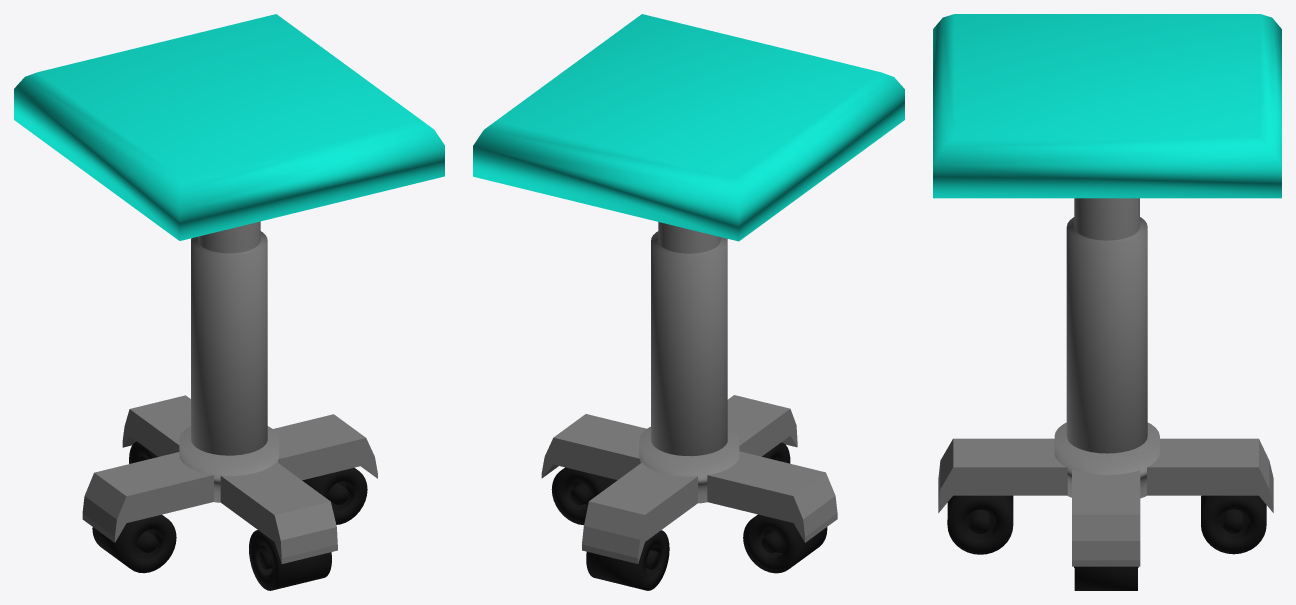
The model's file is chair_tier9.fbx.
3 views of the same model, side by side, from view 1: azimuth 30°, elevation 25°; view 2: azimuth 150°, elevation 25°; view 3: azimuth 270°, elevation 25° (orthographic). The views are drawn at different scales.
Visible parts, largest first — view 1: Cube, Cylinder.001, Cube.002, Cube.001, Cylinder.004, Cylinder.002, Cylinder.005, Cylinder.003, Cylinder; view 2: Cube, Cylinder.001, Cube.002, Cube.001, Cylinder.004, Cylinder.002, Cylinder.006, Cylinder.003, Cylinder; view 3: Cube, Cylinder.001, Cube.001, Cube.002, Cylinder.005, Cylinder.006, Cylinder.002, Cylinder, Cylinder.003.
Part boxes in pixels (left/top/right/bottom): Cube: left=14, top=14, right=444, bottom=240; Cylinder.001: left=191, top=231, right=267, bottom=455; Cube.002: left=82, top=414, right=377, bottom=542; Cube.001: left=122, top=395, right=337, bottom=563; Cylinder.004: left=92, top=514, right=176, bottom=573; Cylinder.002: left=179, top=426, right=279, bottom=502; Cylinder.005: left=249, top=530, right=331, bottom=590; Cylinder.003: left=302, top=467, right=367, bottom=524; Cylinder: left=198, top=221, right=260, bottom=253; Cube: left=473, top=14, right=904, bottom=241; Cylinder.001: left=651, top=231, right=727, bottom=456; Cube.002: left=541, top=414, right=837, bottom=542; Cube.001: left=582, top=395, right=797, bottom=563; Cylinder.004: left=743, top=514, right=827, bottom=573; Cylinder.002: left=639, top=426, right=739, bottom=503; Cylinder.006: left=586, top=530, right=669, bottom=590; Cylinder.003: left=551, top=467, right=617, bottom=525; Cylinder: left=658, top=222, right=720, bottom=253; Cube: left=933, top=14, right=1281, bottom=198; Cylinder.001: left=1066, top=217, right=1147, bottom=453; Cube.001: left=938, top=438, right=1273, bottom=512; Cube.002: left=1072, top=469, right=1140, bottom=566; Cylinder.005: left=947, top=495, right=1013, bottom=554; Cylinder.006: left=1201, top=495, right=1266, bottom=554; Cylinder.002: left=1054, top=422, right=1159, bottom=498; Cylinder: left=1074, top=198, right=1139, bottom=240; Cylinder.003: left=1074, top=566, right=1138, bottom=590.
Bounding box in the file's own units: 40.19 × 64 × 43.46.
